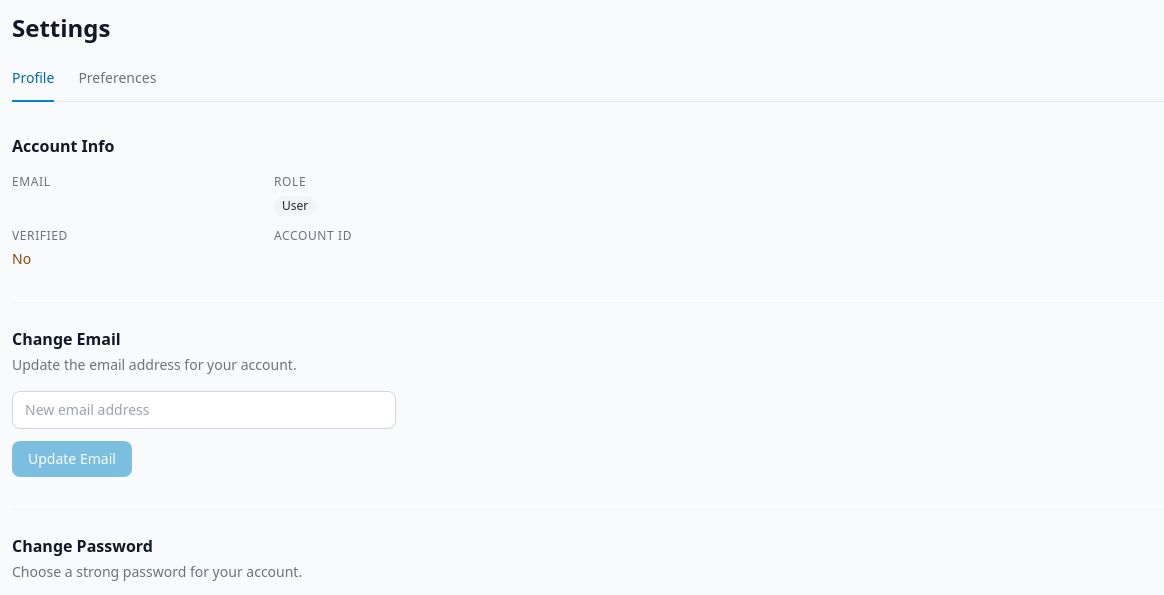
Settings page › shows fallback error message when email update fails without detail
Type "new@test.com" into the field with placeholder "New email address".
click(204, 410); type("new@test.com")  # box [12,391,396,429]
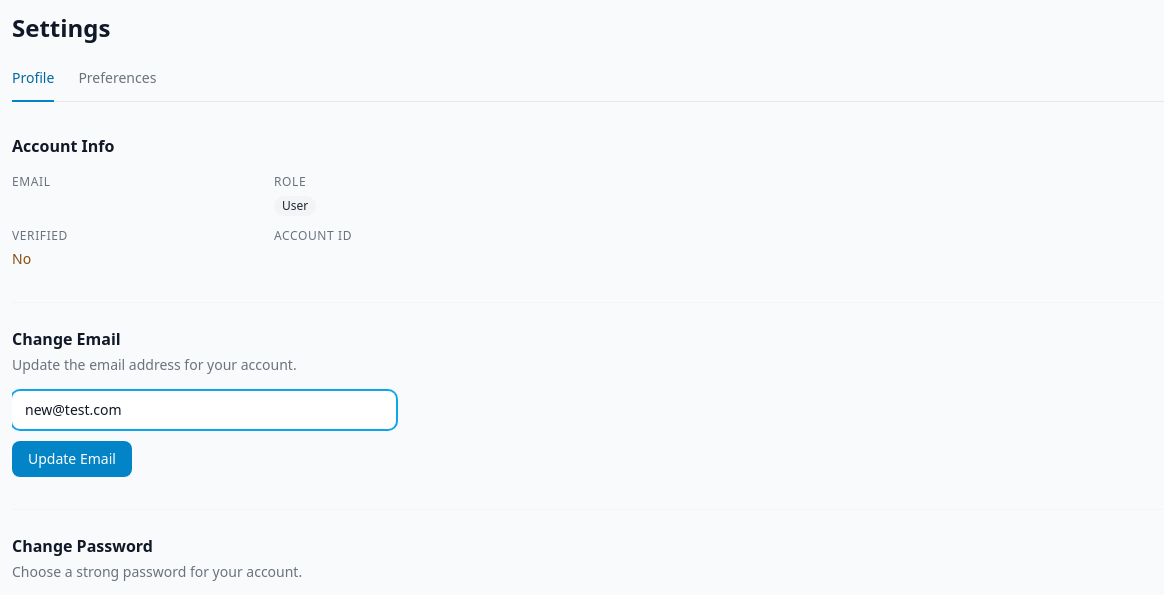
Click the button "Update Email".
click(72, 459)  # box [12,441,132,477]
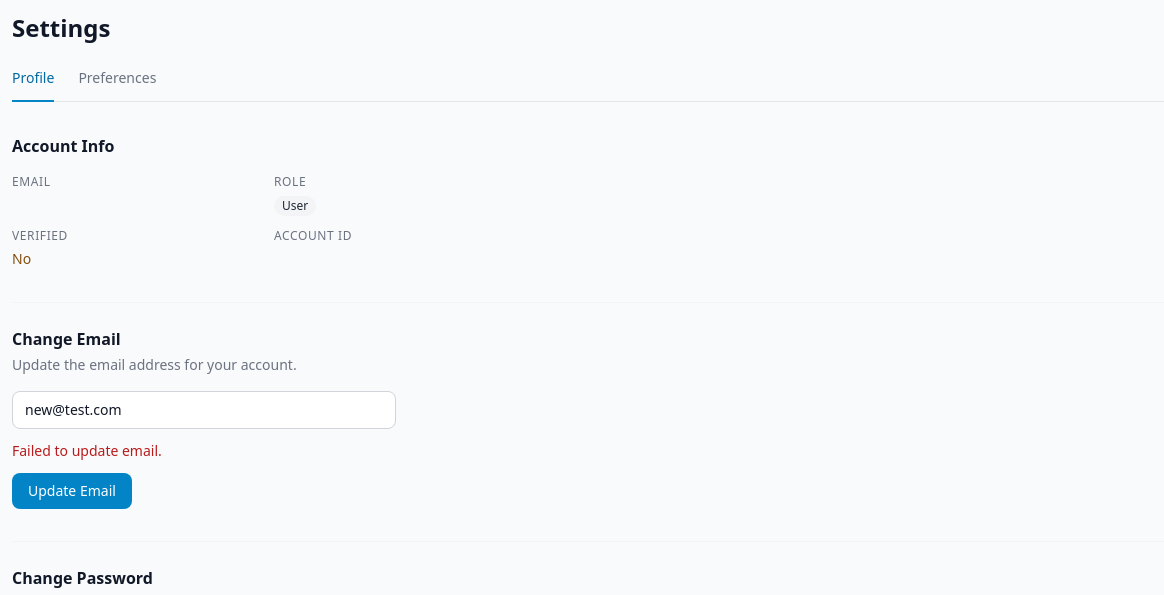
Result: the text "Failed to update email." is shown at [12,441,162,460]
